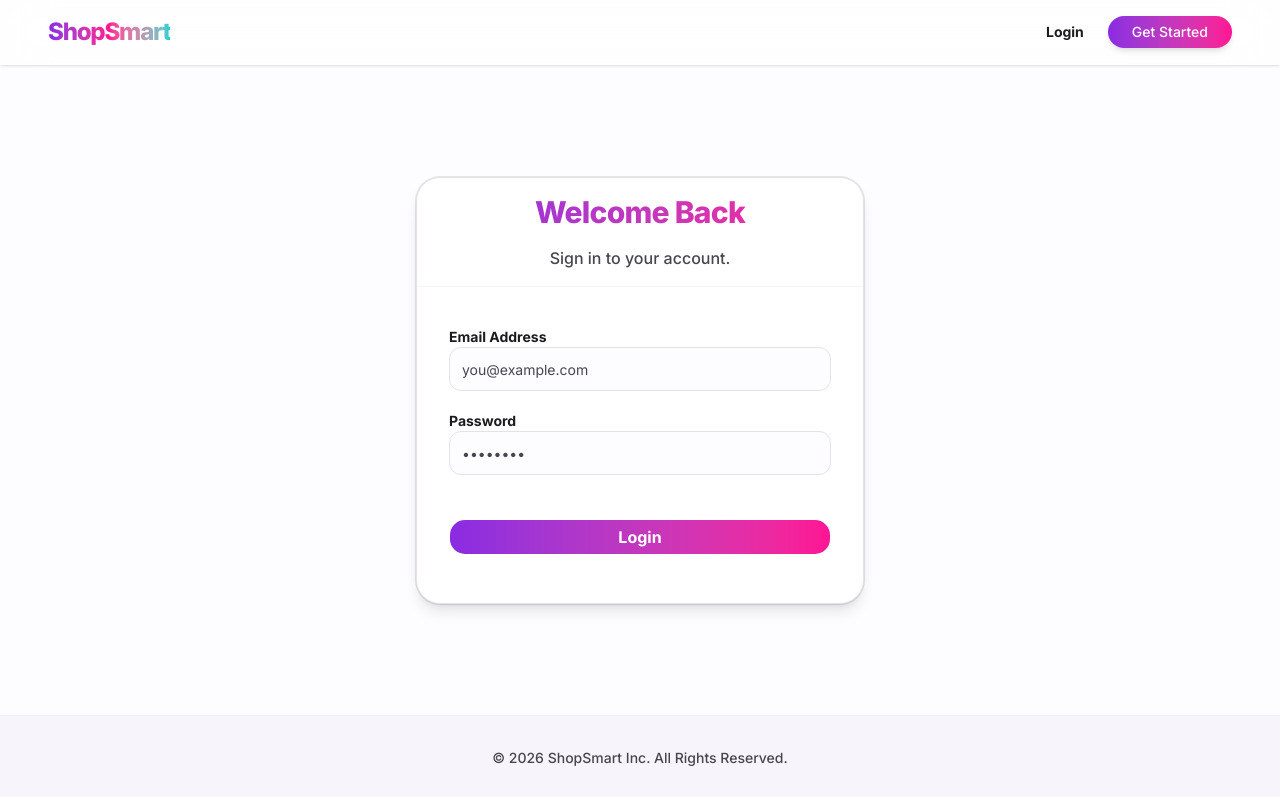
Scenario: Authentication E2E Flow › Successfully mocks a login integration sequence
The width and height of the screenshot is (1280, 797).
Type "admin@shopsmart.com" into the field with placeholder "you@example.com" at (640, 369), box [449,347,831,391]
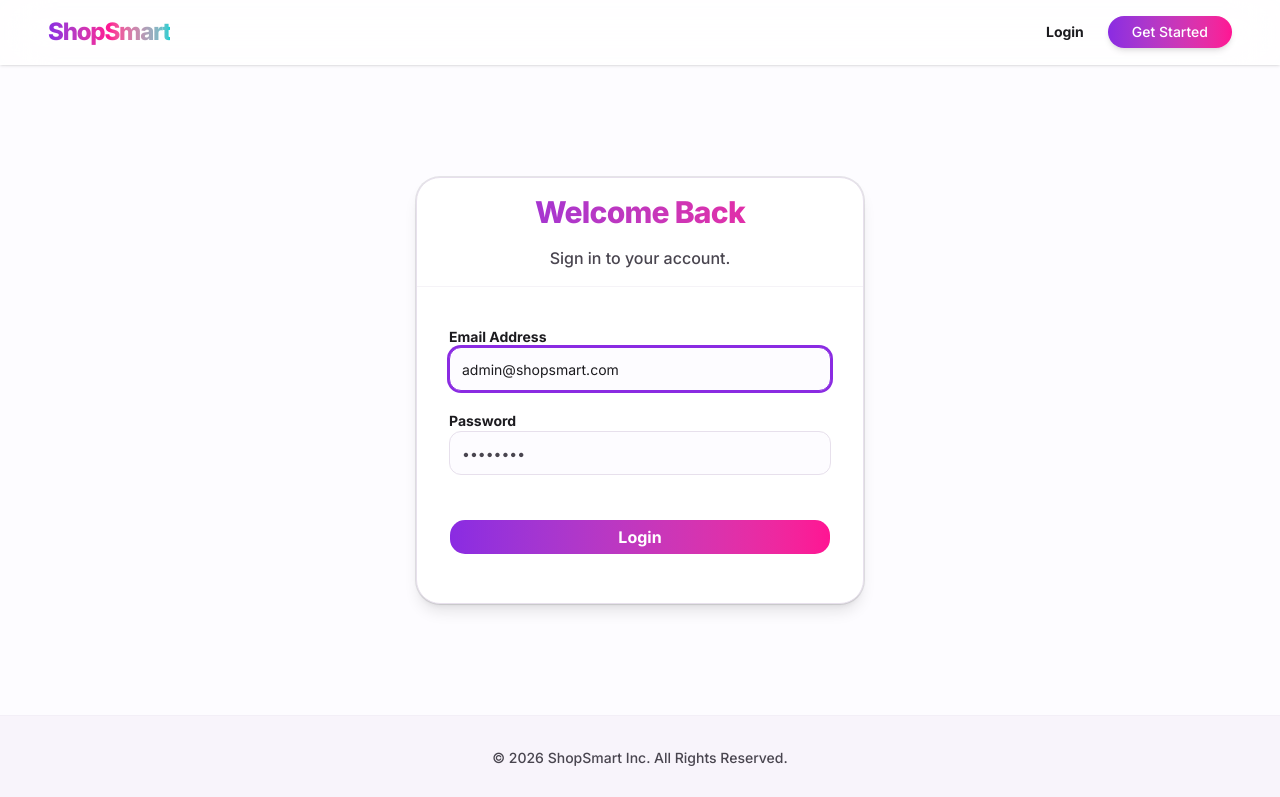
Type "password123" into the password field with placeholder "••••••••" at (640, 453), box [449,431,831,475]
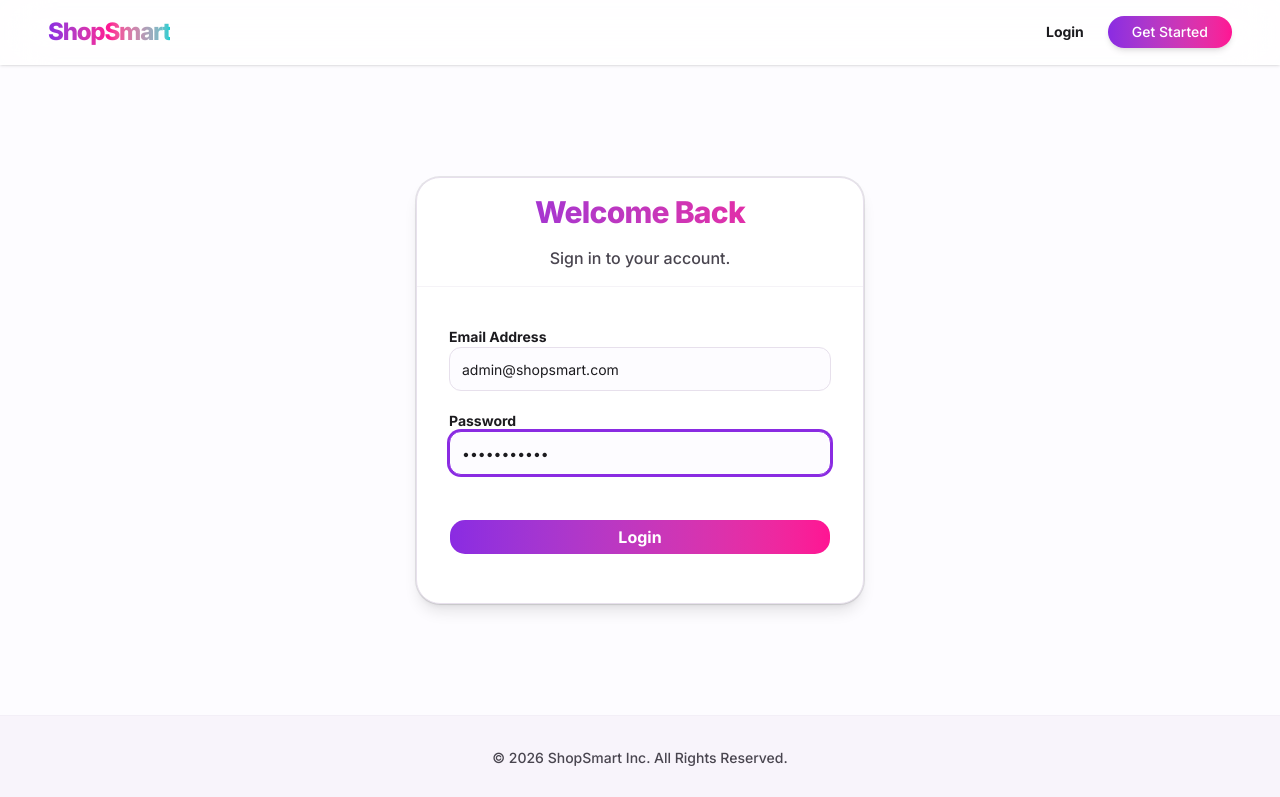
Click the submit button at (640, 537), box [449,519,831,555]
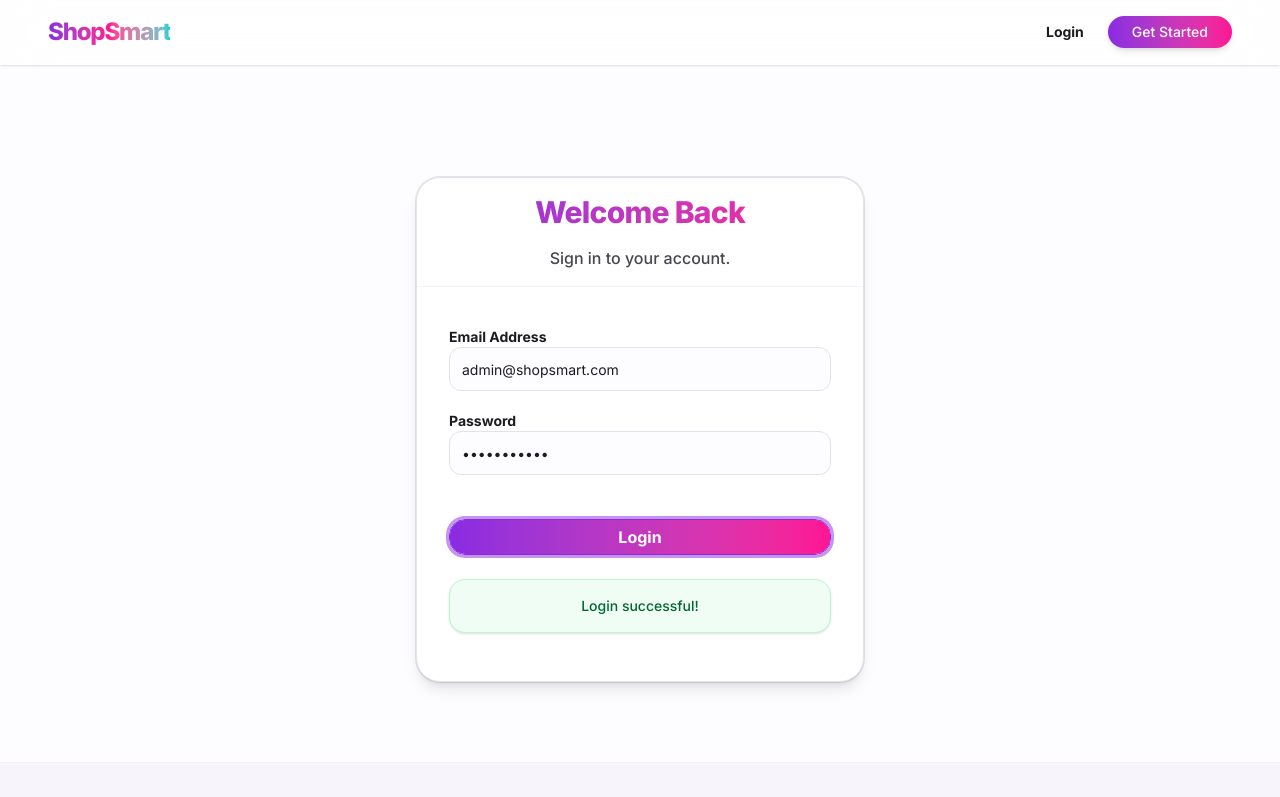
Result: the text "Login successful!" is shown at [449,579,831,633]
